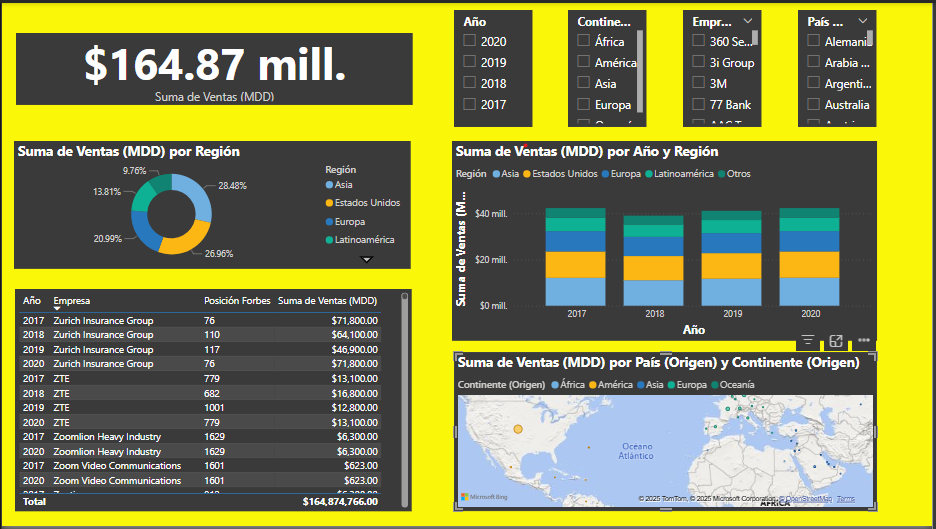

The dashboard page shown, as its layout file describes it:
{"tool":"powerbi","page":{"name":"Página 1","canvas":[1280,720],"ordinal":0},"visuals":[{"type":"tableEx","fields":{"Values":["Forbes Global 2000.Año","Forbes Global 2000.Empresa","Forbes Global 2000.Posición Forbes","Sum(Forbes Global 2000.Ventas (MDD))"]},"box":[17.9,393.6,546.4,305.5],"z":1000},{"type":"columnChart","fields":{"Category":["Forbes Global 2000.Año"],"Y":["Sum(Forbes Global 2000.Ventas (MDD))"],"Series":["Forbes Global 2000.Región"]},"box":[619.2,190.1,584.6,275],"z":2000},{"type":"donutChart","fields":{"Category":["Forbes Global 2000.Región"],"Y":["Sum(Forbes Global 2000.Ventas (MDD))"]},"box":[16.5,189.9,546.4,176.2],"z":3000},{"type":"map","fields":{"Category":["Forbes Global 2000.País (Origen)"],"Size":["Sum(Forbes Global 2000.Ventas (MDD))"],"Series":["Forbes Global 2000.Continente (Origen)"]},"box":[622.1,481,581.8,218.9],"z":4000},{"type":"card","fields":{"Values":["Sum(Forbes Global 2000.Ventas (MDD))"]},"box":[19.3,41.3,546.4,99.1],"z":5000},{"type":"slicer","fields":{"Values":["Forbes Global 2000.Año"]},"box":[622.1,10.1,108,161.3],"z":6000},{"type":"slicer","fields":{"Values":["Forbes Global 2000.Continente (Origen)"]},"box":[779,10.1,108,161.3],"z":7000},{"type":"slicer","fields":{"Values":["Forbes Global 2000.Empresa"]},"box":[937.4,10.1,108,161.3],"z":8000},{"type":"slicer","fields":{"Values":["Forbes Global 2000.País (Origen)"]},"box":[1095.8,10.1,108,161.3],"z":9000}]}

Visuals, with their boxes in screenshot pixels (x1, y1, x2, y2), scaled from the page's 1280x720 canvas onto the 936x529 screenshot:
tableEx - Forbes Global 2000.Año x Forbes Global 2000.Empresa: [left=13, top=289, right=413, bottom=514]
columnChart - Forbes Global 2000.Año x Sum(Forbes Global 2000.Ventas (MDD)): [left=453, top=140, right=880, bottom=342]
donutChart - Forbes Global 2000.Región x Sum(Forbes Global 2000.Ventas (MDD)): [left=12, top=140, right=412, bottom=269]
map - Forbes Global 2000.País (Origen) x Sum(Forbes Global 2000.Ventas (MDD)): [left=455, top=353, right=880, bottom=514]
card - Sum(Forbes Global 2000.Ventas (MDD)): [left=14, top=30, right=414, bottom=103]
slicer - Forbes Global 2000.Año: [left=455, top=7, right=534, bottom=126]
slicer - Forbes Global 2000.Continente (Origen): [left=570, top=7, right=649, bottom=126]
slicer - Forbes Global 2000.Empresa: [left=685, top=7, right=764, bottom=126]
slicer - Forbes Global 2000.País (Origen): [left=801, top=7, right=880, bottom=126]
